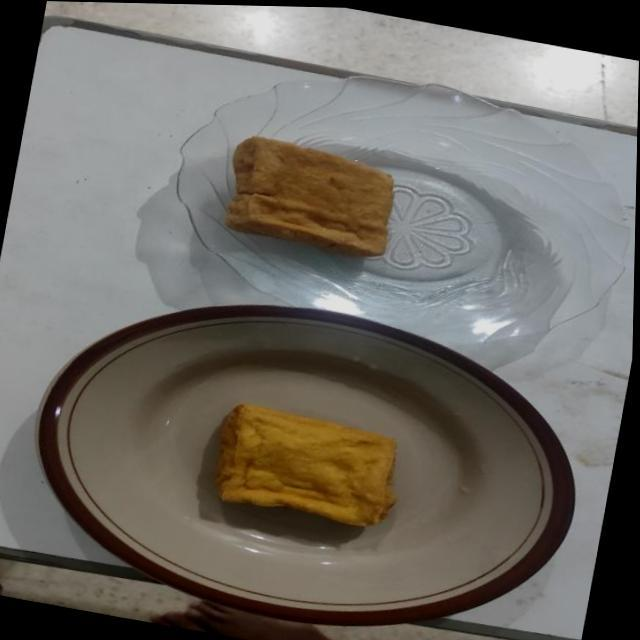tahu_goreng: (216, 404, 397, 527), (225, 137, 394, 257)
